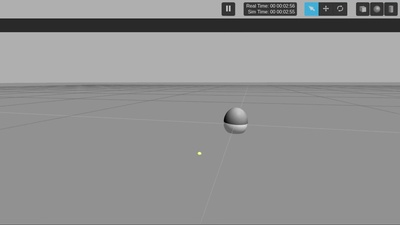mira_robot: (224, 107, 249, 134)
